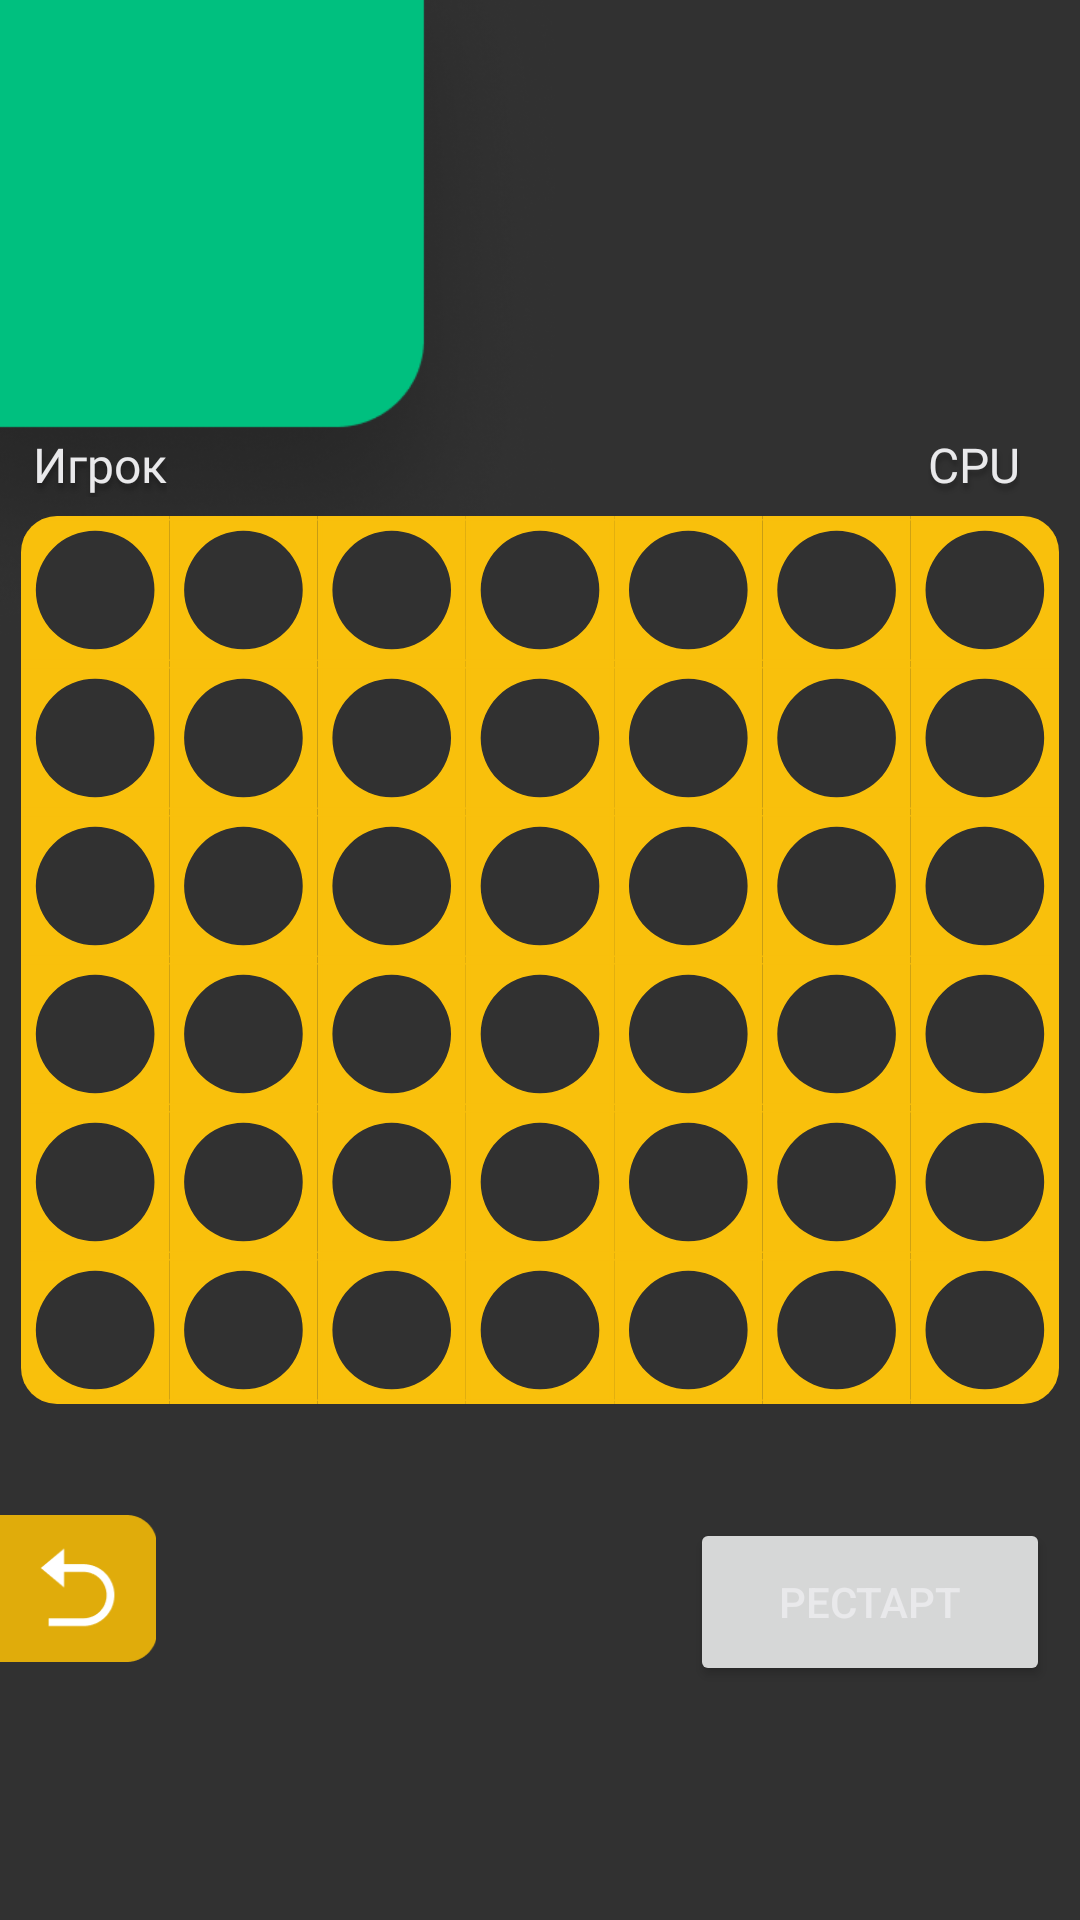

Icons on this 1080×1920 Android screen, each with its box as (x1, y1, x2, y2):
back: (0, 1515, 156, 1662)
